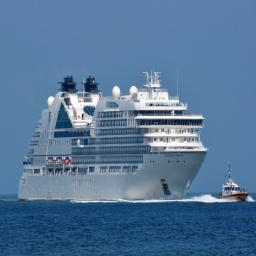cruises: (17, 69, 212, 205)
